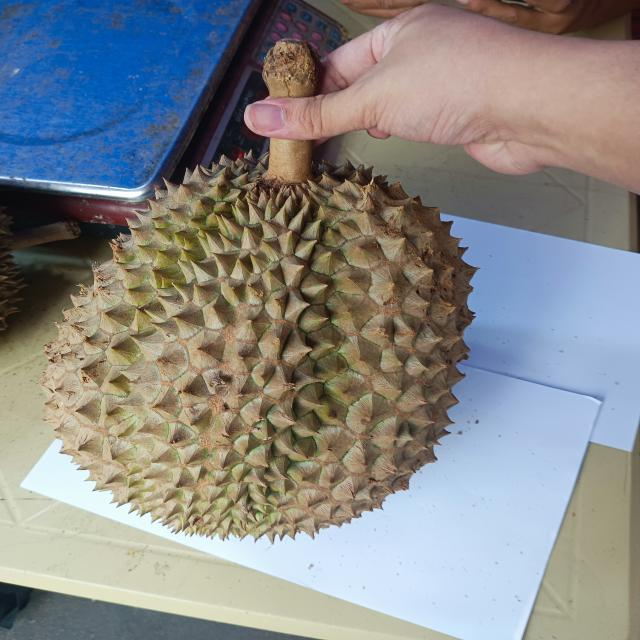mature: (37, 138, 472, 541)
